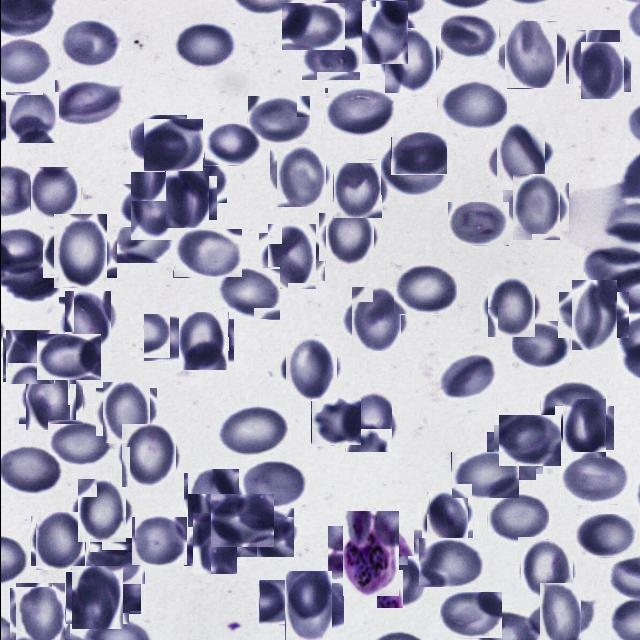difficult: (334, 518, 406, 590)
red blood cell: (47, 219, 111, 283), (499, 24, 562, 84), (216, 406, 289, 457), (278, 576, 338, 636), (436, 80, 506, 131), (559, 453, 627, 505), (209, 493, 273, 548), (238, 458, 307, 509), (323, 88, 393, 138), (118, 426, 177, 485), (214, 267, 279, 320), (381, 30, 438, 90), (172, 229, 241, 278), (282, 339, 340, 397), (506, 178, 564, 236), (564, 286, 622, 344), (68, 568, 126, 626), (392, 263, 456, 315), (540, 381, 605, 432), (491, 128, 548, 186), (263, 228, 320, 286), (346, 291, 404, 347), (22, 370, 78, 428), (54, 80, 123, 127), (380, 144, 443, 195), (450, 452, 518, 499), (272, 147, 329, 203), (418, 538, 483, 587), (498, 415, 560, 466), (246, 96, 309, 146), (73, 483, 129, 539), (123, 178, 179, 234), (59, 20, 121, 70), (356, 5, 412, 60), (143, 119, 202, 171), (486, 494, 548, 543), (185, 471, 240, 526), (518, 542, 574, 596), (258, 580, 320, 628), (11, 586, 66, 640), (483, 280, 538, 334), (281, 3, 344, 50), (36, 334, 100, 380), (32, 514, 86, 568), (322, 210, 376, 264), (330, 162, 384, 216), (340, 395, 394, 449), (566, 31, 620, 85), (173, 23, 235, 70), (235, 508, 293, 558), (436, 352, 495, 401), (99, 385, 152, 439), (177, 314, 230, 368), (47, 420, 109, 466), (439, 592, 501, 638), (512, 321, 570, 370), (84, 538, 144, 585), (531, 590, 587, 640), (164, 158, 226, 203), (142, 314, 200, 362), (574, 514, 637, 558), (5, 91, 58, 143), (130, 517, 186, 566), (441, 12, 498, 60), (446, 202, 508, 246), (375, 556, 427, 608), (62, 294, 114, 346), (4, 332, 56, 384), (188, 518, 240, 570), (160, 172, 212, 224), (79, 570, 140, 614), (29, 168, 82, 218), (130, 115, 186, 162), (558, 402, 609, 453), (576, 45, 626, 96), (116, 217, 170, 263), (489, 428, 538, 478), (390, 132, 446, 175), (203, 124, 260, 166), (310, 399, 360, 446), (300, 42, 359, 81), (424, 494, 469, 540)
